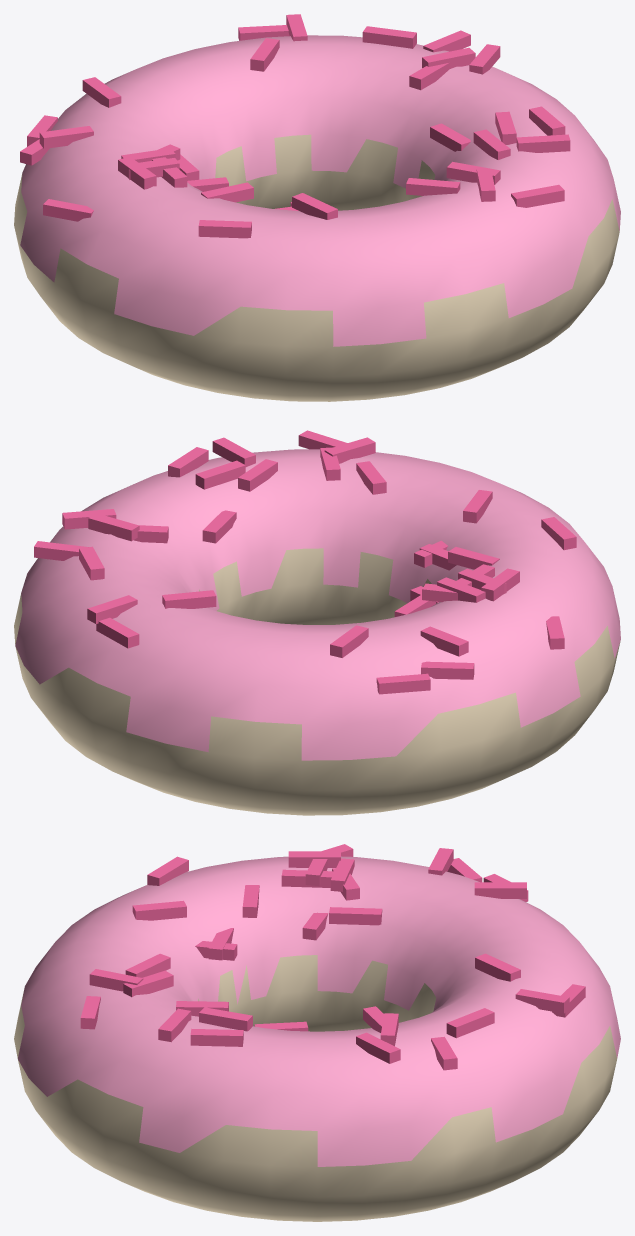
The model's file is BumperDonutFloat.obj.
The picture shows the model from 3 angles, top to bottom: view 1: azimuth 30°, elevation 25°; view 2: azimuth 150°, elevation 25°; view 3: azimuth 270°, elevation 25°; orthographic projection.
Visible parts, largest first — view 1: Frosting, Dough, Sprinkles; view 2: Frosting, Dough, Sprinkles; view 3: Frosting, Dough, Sprinkles.
Part boxes in pixels (x1,y1,x2,y2): Frosting: (20,35,620,346); Dough: (14,134,619,401); Sprinkles: (20,14,570,238); Frosting: (15,449,620,760); Dough: (14,548,620,815); Sprinkles: (34,430,576,694); Frosting: (17,856,620,1166); Dough: (14,955,617,1221); Sprinkles: (80,844,585,1070).
Size of the model in its own units: 5.1 by 1.69 by 5.1.
